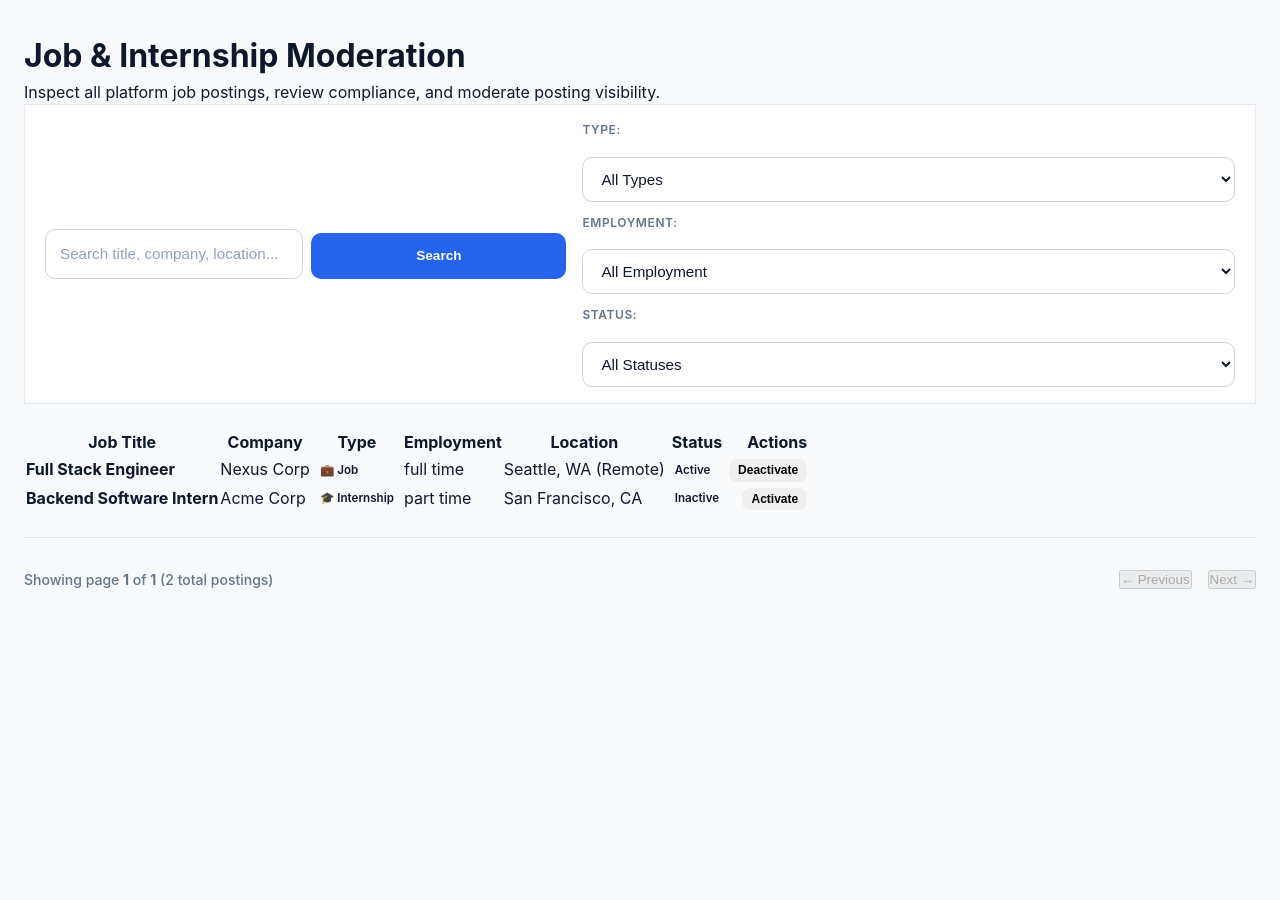
Scenario: AdminJobsPage Component › opens JobModerationModal and updates status on success
Expected: the text "Full Stack Engineer" is shown, 26,459 -> 175,479
Click the button with test id "toggle-job-101-btn". click: (768, 470)
box: 729,459 -> 807,482
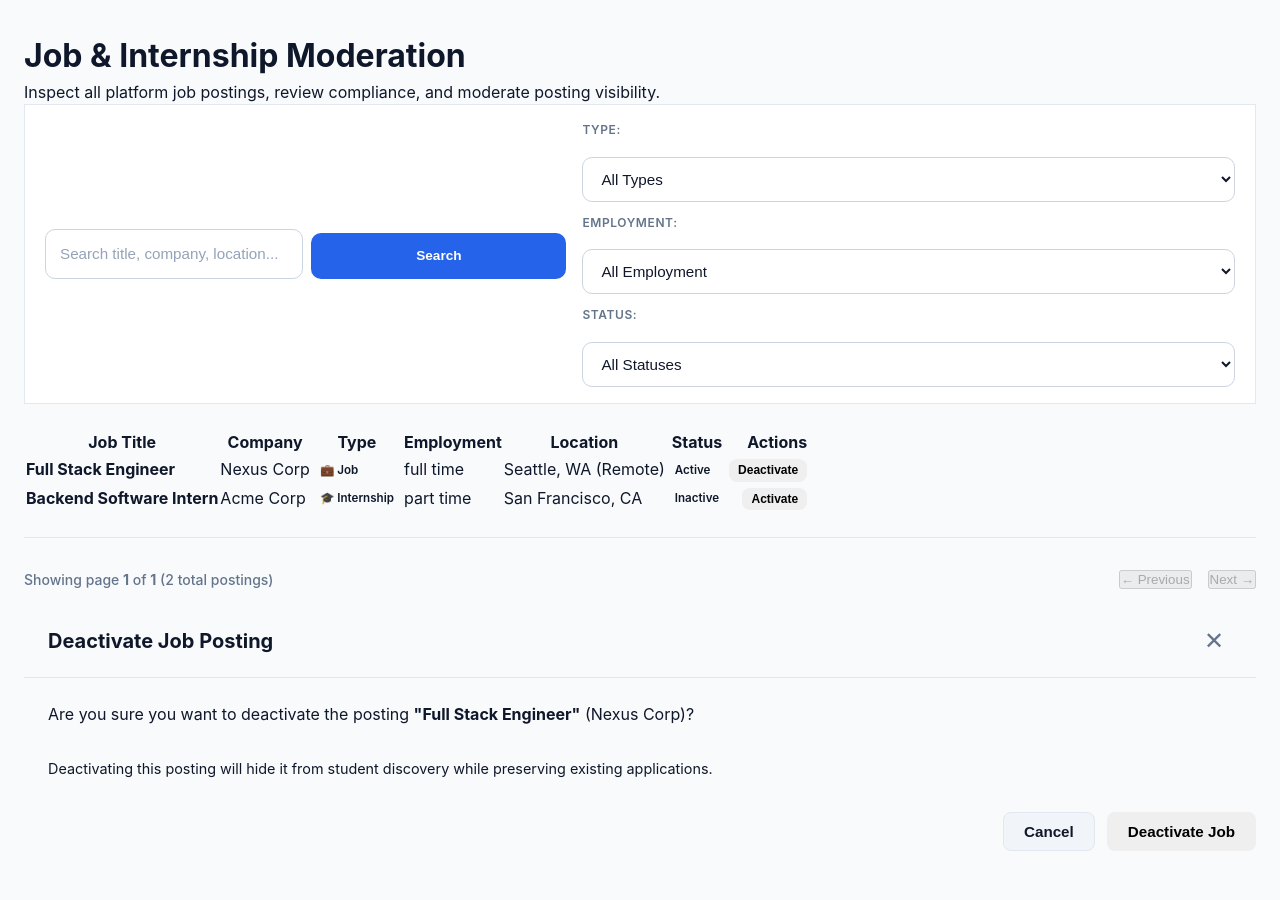
Result: the dialog with test id "job-moderation-modal" is shown at 24,605 -> 1256,851
Click the button with test id "confirm-job-moderation-btn". click: (1181, 831)
box: 1107,812 -> 1256,851
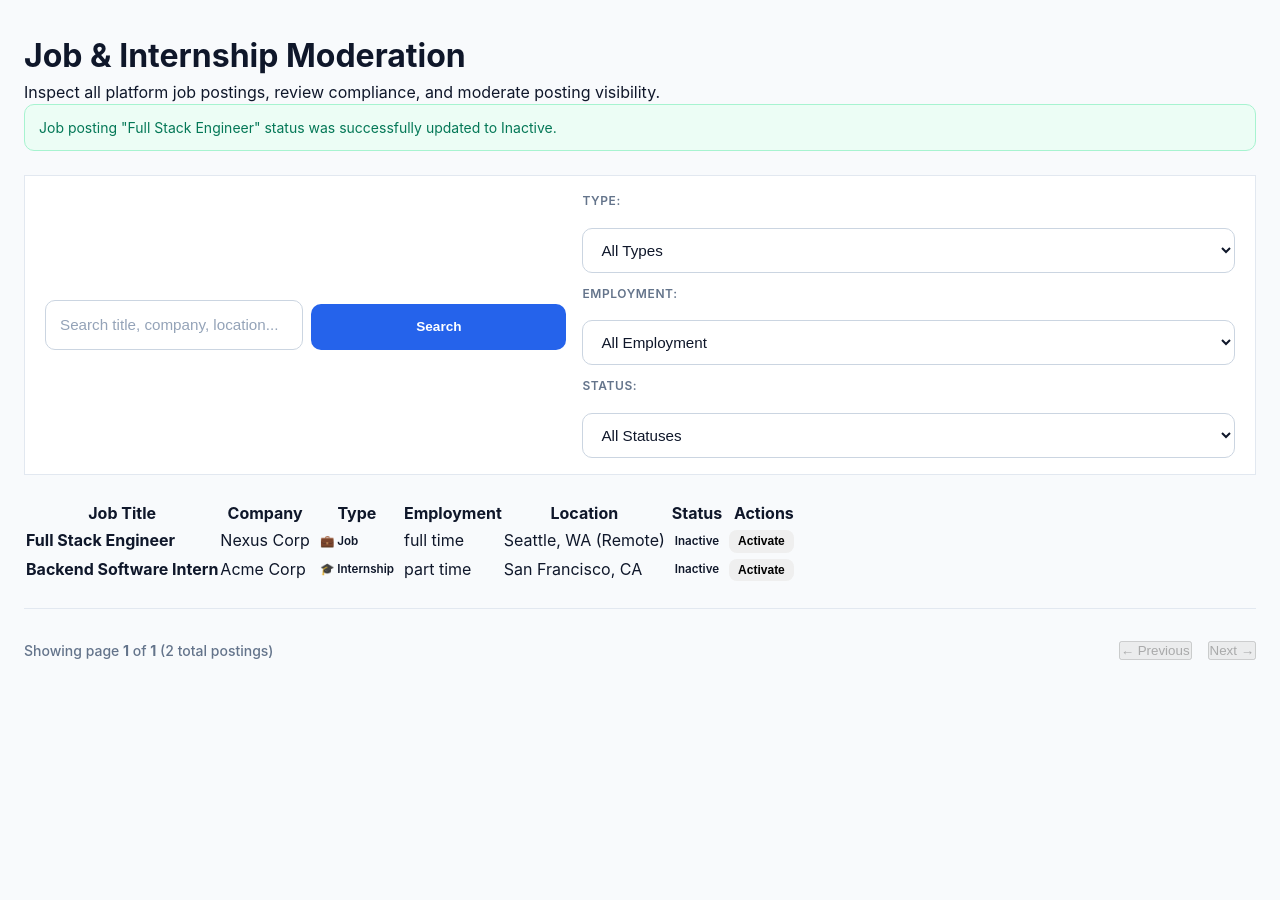
Result: the text "Job posting \"Full Stack Engineer\" status was successfully updated to Inactive." is shown at 24,104 -> 1256,151
